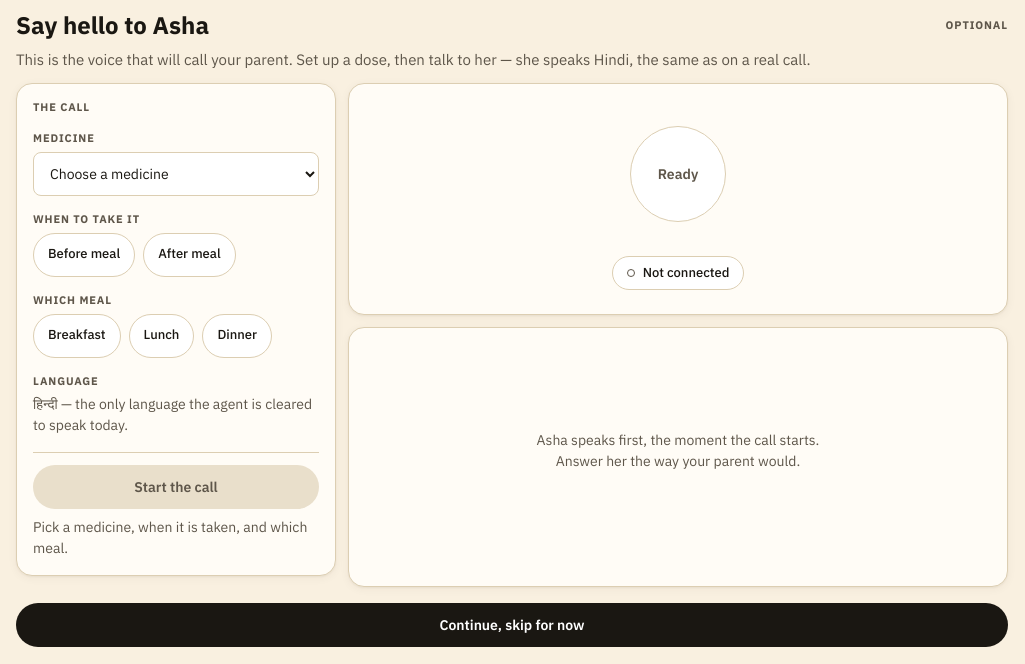
Test: Meet — the call configuration rail › gates the call until a medicine, a relation and a meal are picked
This screenshot has width=1025, height=664.
Expected: the button "Start the call" is disabled, [33, 466, 319, 510]
Select "Metformin" in the dropdown named "Medicine": (176, 174) [33, 152, 319, 196]
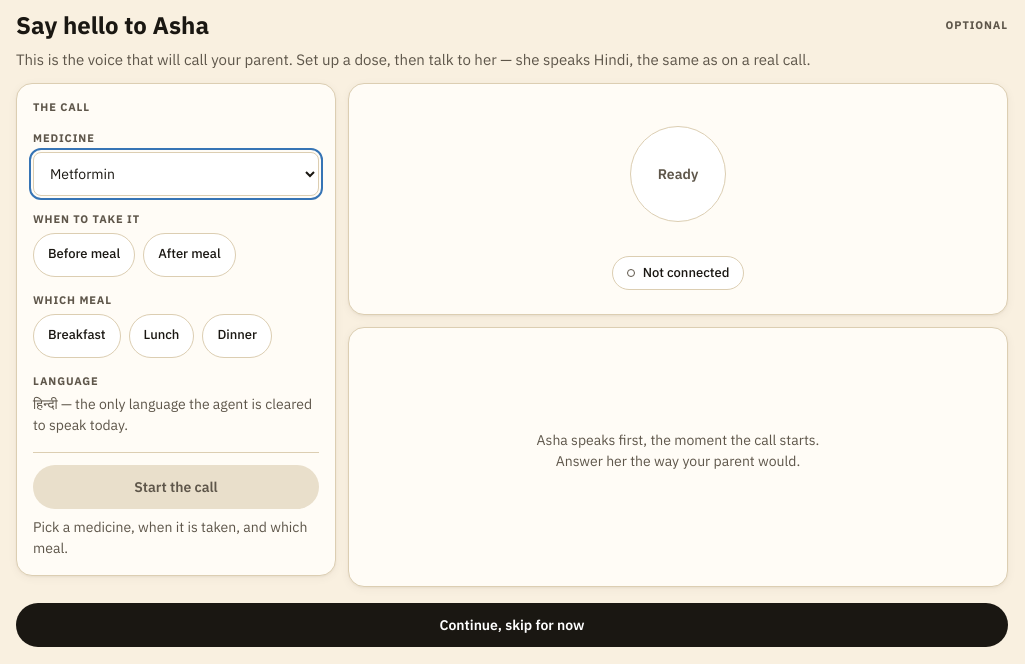
Expected: the button "Start the call" is disabled, [33, 466, 319, 510]
Click the button "After meal": (189, 255) [143, 233, 236, 277]
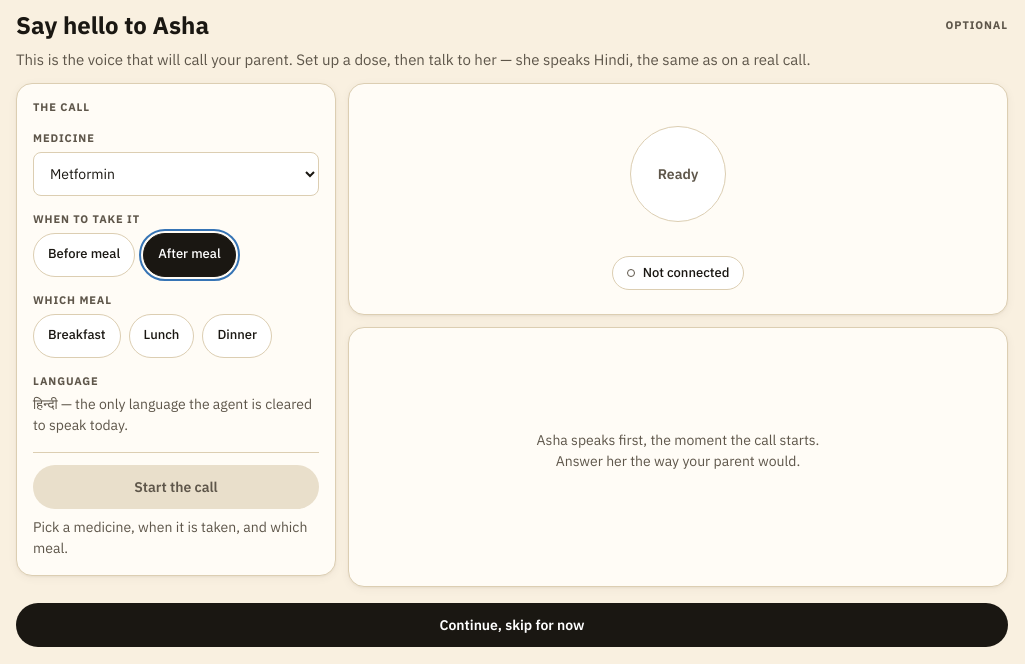
Expected: the button "Start the call" is disabled, [33, 466, 319, 510]
Click the button "Lunch": (162, 336) [129, 314, 194, 358]
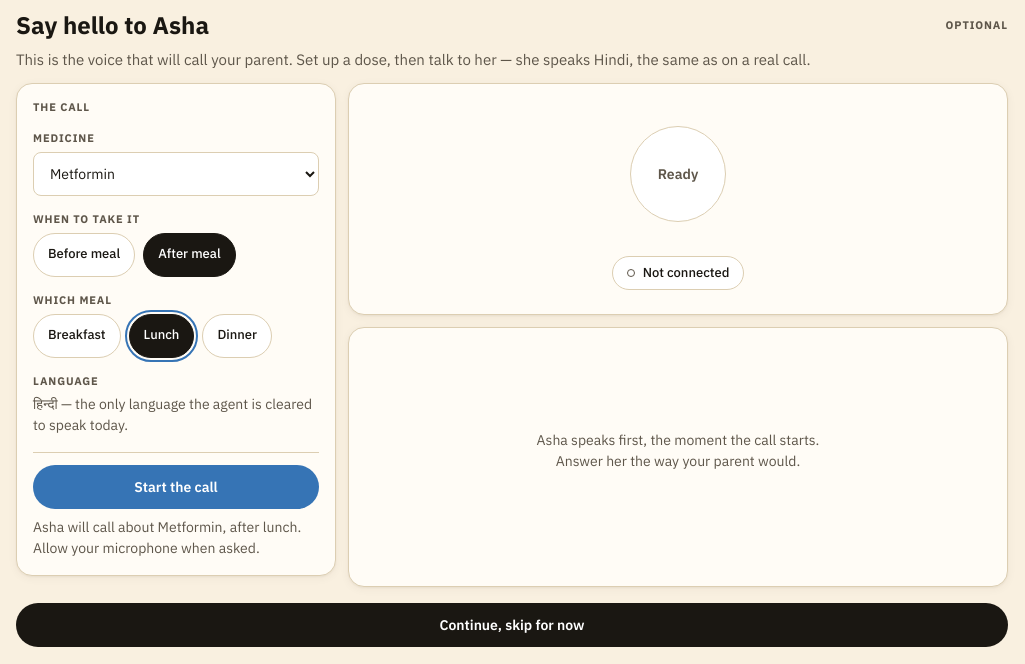
Expected: the button "Start the call" is enabled, [33, 466, 319, 510]
